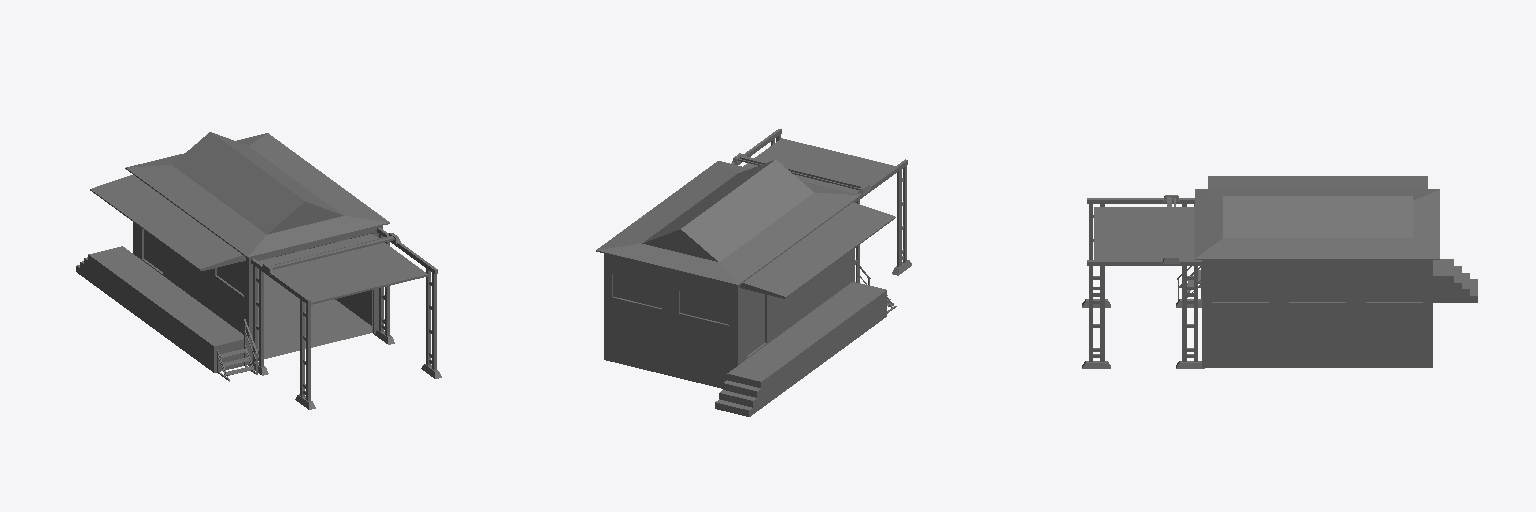
The model's file is repair.obj.
3 views of the same model, side by side, from view 1: azimuth 30°, elevation 25°; view 2: azimuth 150°, elevation 25°; view 3: azimuth 270°, elevation 25° (orthographic).
Visible parts, largest first — view 1: OBJ0001, pCube1; view 2: OBJ0001, pCube1; view 3: OBJ0001, pCube1.
Boxes of the visible parts, box(x1,y1,x2,y2) form: OBJ0001: box(76, 132, 441, 409); pCube1: box(144, 230, 372, 358); OBJ0001: box(596, 129, 911, 416); pCube1: box(613, 275, 764, 355); OBJ0001: box(1082, 176, 1477, 368); pCube1: box(1212, 280, 1422, 301).
Size of the model in its own units: 8.26 by 6.05 by 15.41.